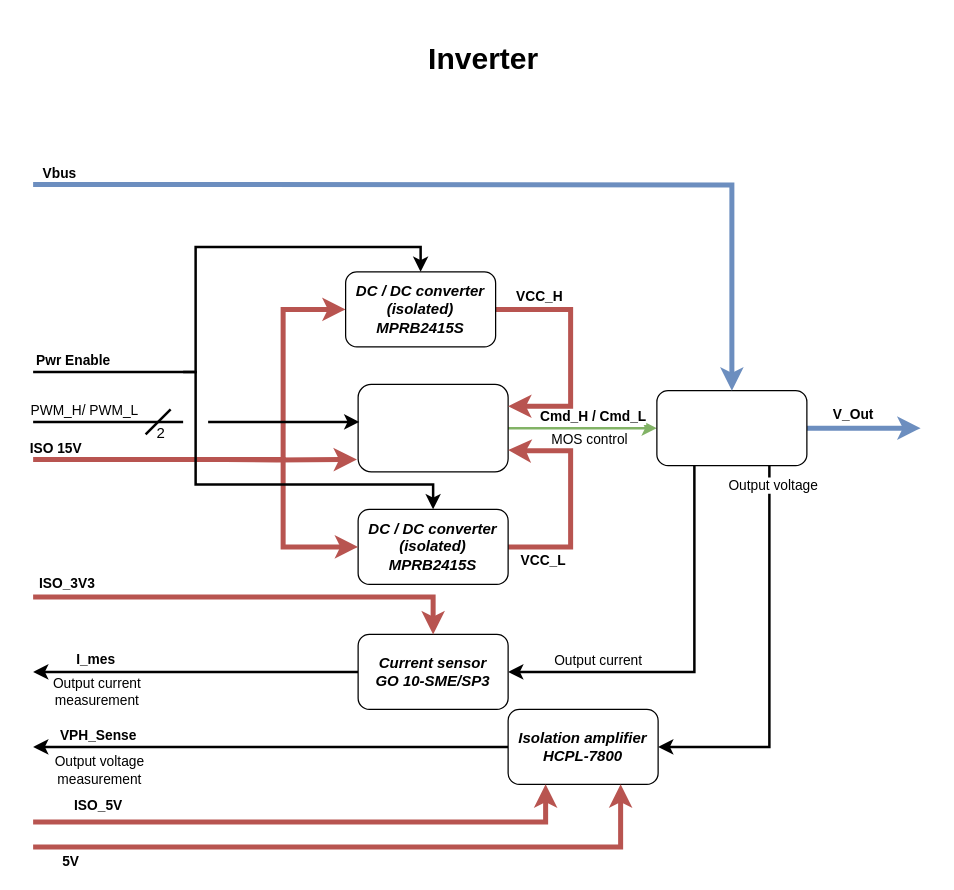
Image size: 954x890. Some labels were removed from this diagram. The shapes that lost their labels are listed below. From the top down, each one's centre as x and y in pixels, then its label:
(432,427): MOS Driver HCPL-315J
(731,427): Bras de pont IRF540NPbF x2
